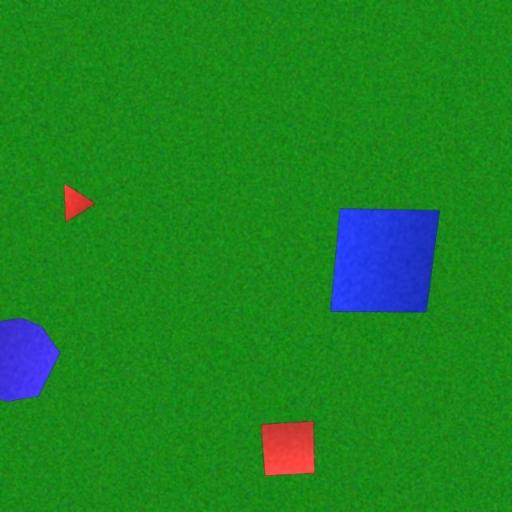BLUE_SQUARE: (330, 207, 440, 314)
RED_SQUARE: (260, 420, 316, 477)
